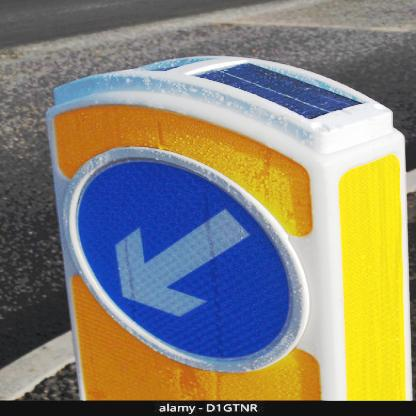Keep left: (63, 143, 314, 377)
